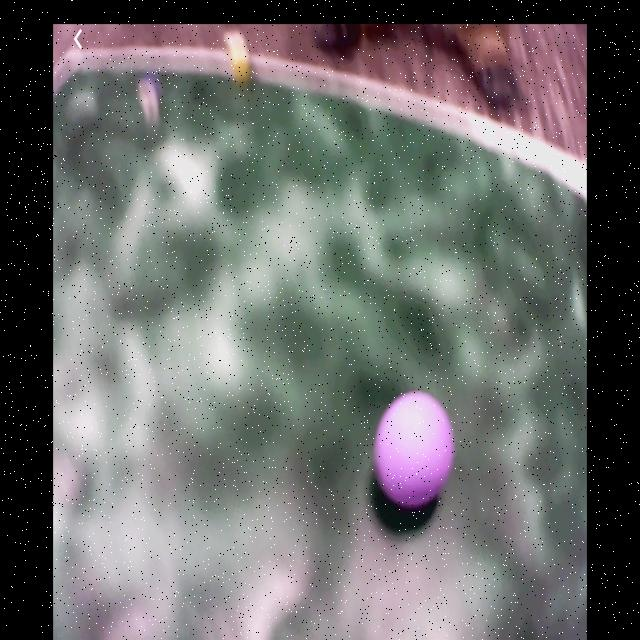ball: (376, 392, 454, 507)
